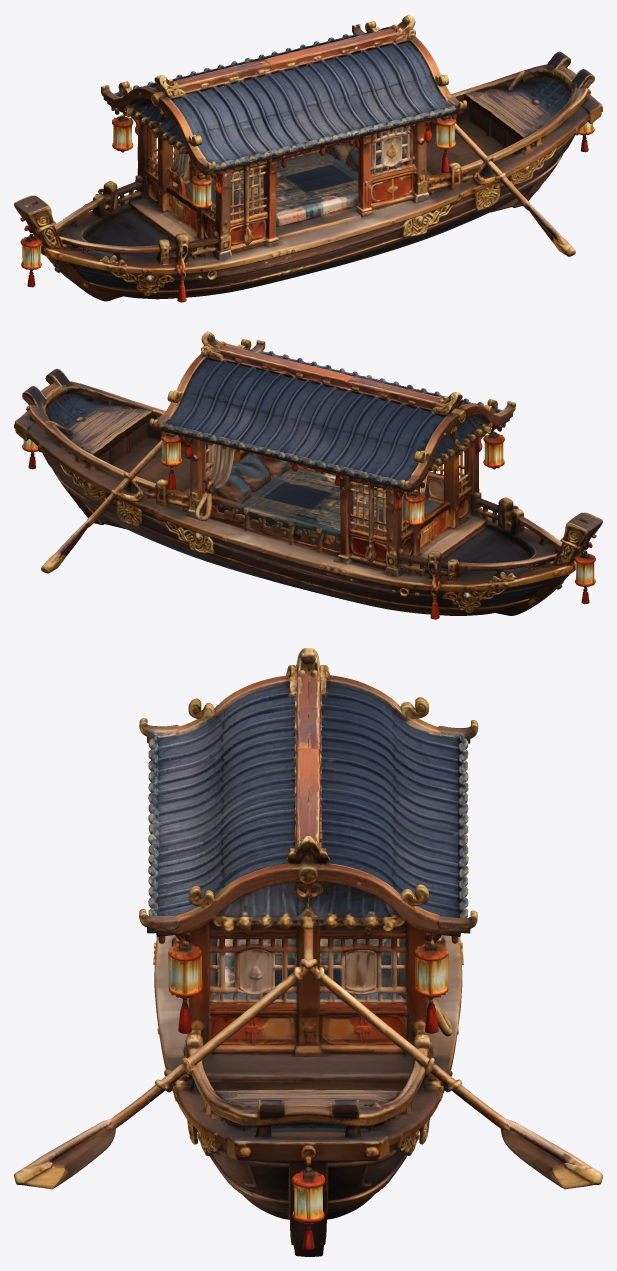
Rendered from roofed-boat.glb.
The picture shows the model from 3 angles, top to bottom: view 1: azimuth 30°, elevation 25°; view 2: azimuth 150°, elevation 25°; view 3: azimuth 270°, elevation 25°; orthographic projection. The views are drawn at different scales.
Parts seen in each view (by area): view 1: tripo_part_0, tripo_part_2, tripo_part_1, tripo_part_3, tripo_part_4, tripo_part_12, tripo_part_5, tripo_part_6, tripo_part_7, tripo_part_11, tripo_part_9, tripo_part_10; view 2: tripo_part_0, tripo_part_2, tripo_part_1, tripo_part_3, tripo_part_4, tripo_part_12, tripo_part_5, tripo_part_13, tripo_part_7, tripo_part_8, tripo_part_11, tripo_part_9; view 3: tripo_part_0, tripo_part_1, tripo_part_2, tripo_part_5, tripo_part_3, tripo_part_13, tripo_part_6, tripo_part_4, tripo_part_8, tripo_part_14, tripo_part_10.
Boxes of the visible parts, bbox=[...] form: tripo_part_0: bbox=[101, 14, 466, 179]; tripo_part_2: bbox=[14, 92, 602, 302]; tripo_part_1: bbox=[118, 111, 431, 260]; tripo_part_3: bbox=[451, 51, 594, 175]; tripo_part_4: bbox=[176, 139, 405, 227]; tripo_part_12: bbox=[60, 175, 212, 264]; tripo_part_5: bbox=[402, 104, 534, 203]; tripo_part_6: bbox=[477, 164, 575, 256]; tripo_part_7: bbox=[191, 164, 223, 210]; tripo_part_11: bbox=[20, 233, 41, 287]; tripo_part_9: bbox=[112, 116, 133, 152]; tripo_part_10: bbox=[435, 115, 456, 150]; tripo_part_0: bbox=[149, 331, 515, 496]; tripo_part_2: bbox=[14, 409, 602, 619]; tripo_part_1: bbox=[185, 437, 498, 577]; tripo_part_3: bbox=[22, 368, 165, 492]; tripo_part_4: bbox=[212, 453, 440, 542]; tripo_part_12: bbox=[398, 516, 556, 583]; tripo_part_5: bbox=[83, 420, 210, 518]; tripo_part_13: bbox=[41, 481, 138, 573]; tripo_part_7: bbox=[477, 425, 504, 469]; tripo_part_8: bbox=[160, 432, 182, 489]; tripo_part_11: bbox=[574, 550, 595, 604]; tripo_part_9: bbox=[404, 491, 425, 527]; tripo_part_0: bbox=[139, 648, 478, 947]; tripo_part_1: bbox=[171, 924, 452, 1056]; tripo_part_2: bbox=[153, 935, 463, 1256]; tripo_part_5: bbox=[175, 927, 441, 1128]; tripo_part_3: bbox=[187, 1039, 429, 1138]; tripo_part_13: bbox=[435, 1068, 602, 1189]; tripo_part_6: bbox=[14, 1068, 181, 1189]; tripo_part_4: bbox=[212, 938, 403, 999]; tripo_part_8: bbox=[414, 943, 448, 1033]; tripo_part_14: bbox=[291, 1167, 325, 1250]; tripo_part_10: bbox=[168, 941, 202, 998].
Bounding box in the file's own units: 0.9808 × 0.3526 × 0.5609.
18 materials, 18 textured.
